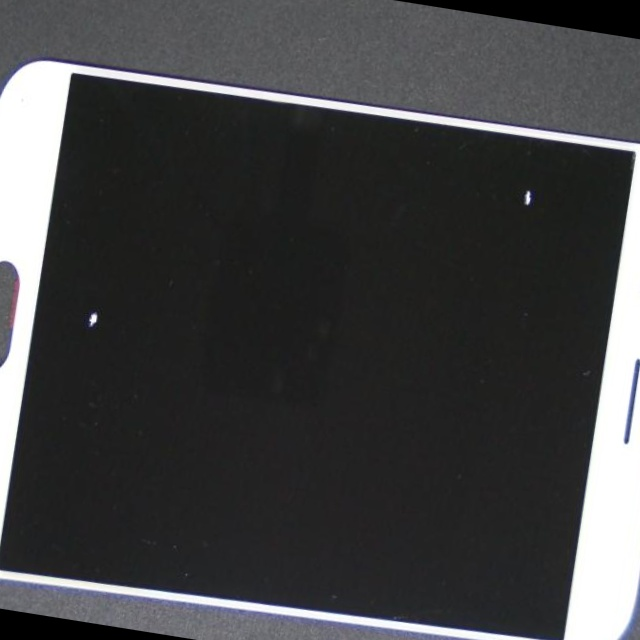stain: (242, 25, 640, 287), (0, 83, 196, 496)
